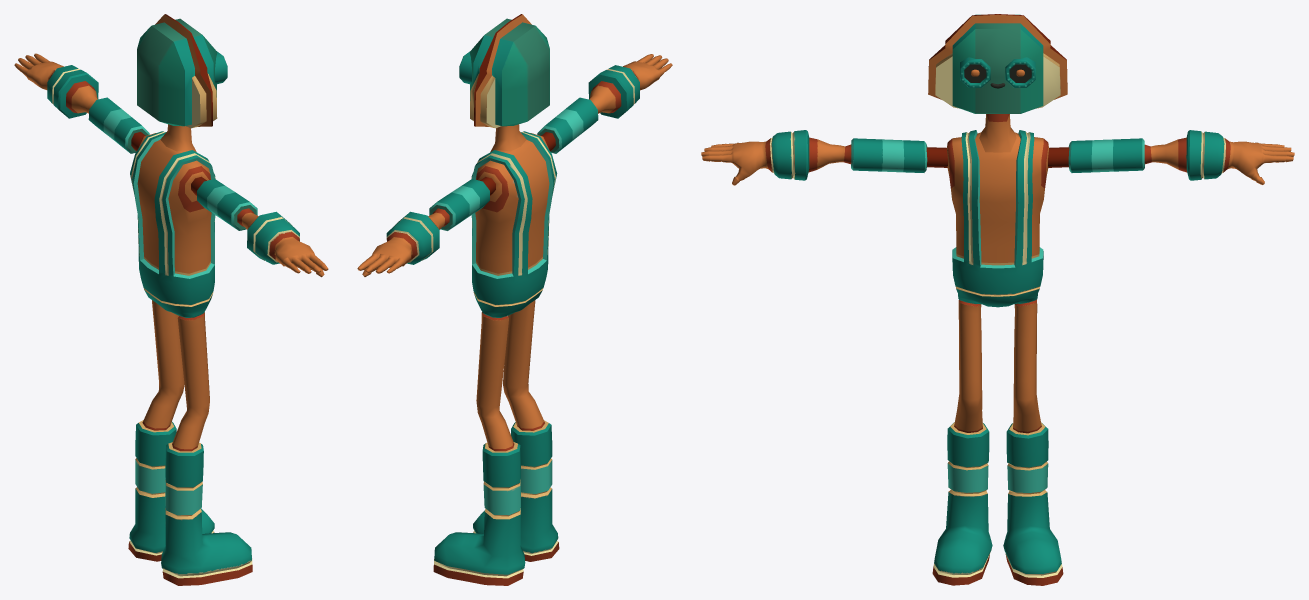
Rendered from Lalobot.glb.
3 views of the same model, side by side, from view 1: azimuth 30°, elevation 25°; view 2: azimuth 150°, elevation 25°; view 3: azimuth 270°, elevation 25° (orthographic).
Parts seen in each view (by area): view 1: _100Avatars_115_LaloBOT; view 2: _100Avatars_115_LaloBOT; view 3: _100Avatars_115_LaloBOT.
Boxes of the visible parts, x1,y1,x2,y2 form: _100Avatars_115_LaloBOT: [14, 14, 328, 585]; _100Avatars_115_LaloBOT: [357, 14, 672, 585]; _100Avatars_115_LaloBOT: [701, 14, 1294, 585].
Size of the model in its own units: 0.81 by 4.8 by 4.74.
Materials: 1 (1 with a texture image).
